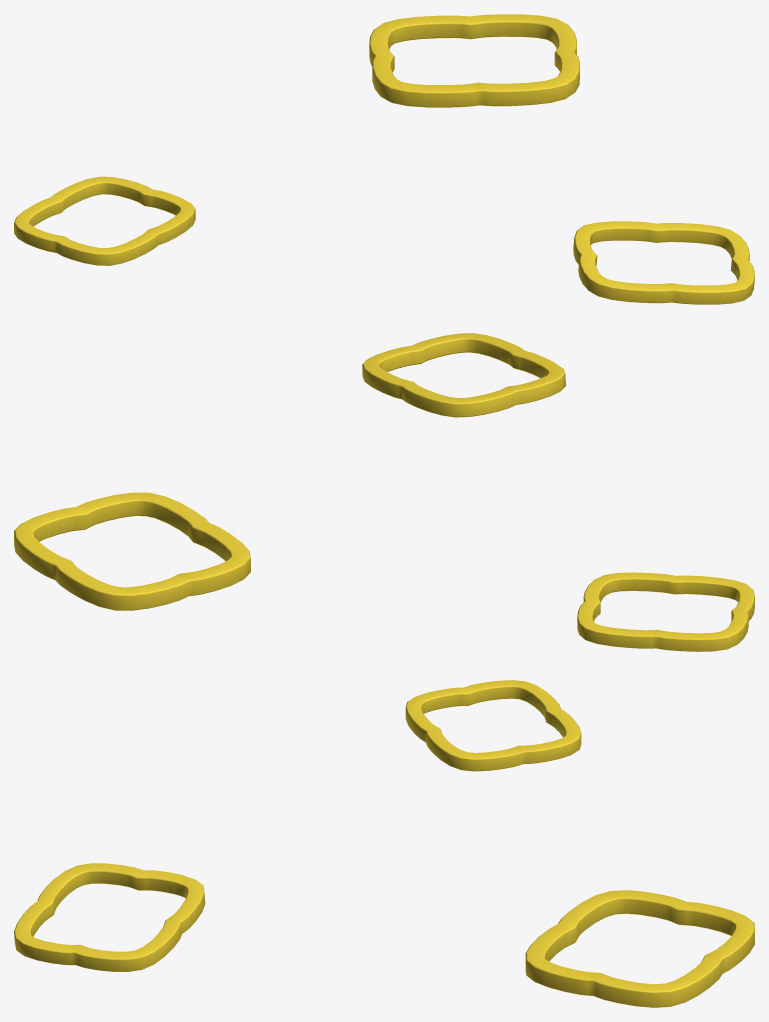
The model's file is pepper.glb.
The picture shows the model from 3 angles, top to bottom: view 1: azimuth 30°, elevation 25°; view 2: azimuth 150°, elevation 25°; view 3: azimuth 270°, elevation 25°; orthographic projection. The views are drawn at different scales.
Parts seen in each view (by area): view 1: Bell_Pepper_Yellow_Pice, Bell_Pepper_Yellow_Pice.001, Bell_Pepper_Yellow_Pice.002; view 2: Bell_Pepper_Yellow_Pice, Bell_Pepper_Yellow_Pice.001, Bell_Pepper_Yellow_Pice.002; view 3: Bell_Pepper_Yellow_Pice, Bell_Pepper_Yellow_Pice.001, Bell_Pepper_Yellow_Pice.002.
Part boxes in pixels (box(x1,y1,x2,y2)): Bell_Pepper_Yellow_Pice: box(369, 14, 579, 107); Bell_Pepper_Yellow_Pice.001: box(573, 221, 754, 304); Bell_Pepper_Yellow_Pice.002: box(14, 176, 195, 265); Bell_Pepper_Yellow_Pice: box(14, 492, 250, 610); Bell_Pepper_Yellow_Pice.001: box(362, 333, 565, 417); Bell_Pepper_Yellow_Pice.002: box(577, 572, 754, 651); Bell_Pepper_Yellow_Pice: box(525, 890, 754, 1007); Bell_Pepper_Yellow_Pice.001: box(14, 863, 205, 971); Bell_Pepper_Yellow_Pice.002: box(405, 680, 581, 771).
Size of the model in its own units: 0.3732 by 0.0171 by 0.3698.
Materials: 1 (1 with a texture image).
